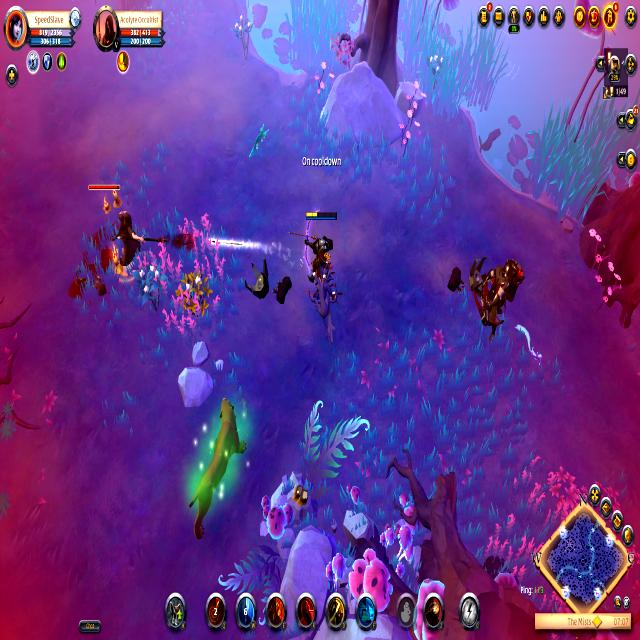hide: (305, 268, 344, 352), (178, 261, 214, 331), (132, 250, 167, 314), (232, 14, 258, 64)
ore: (180, 388, 254, 541), (87, 179, 140, 297), (476, 254, 523, 340)
red: (300, 204, 340, 297)
